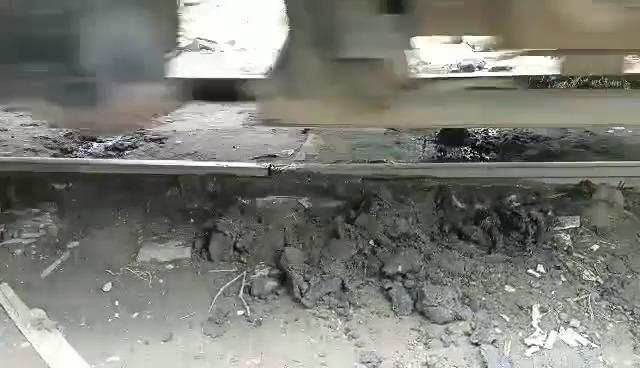railway-gap: (247, 150, 294, 193)
